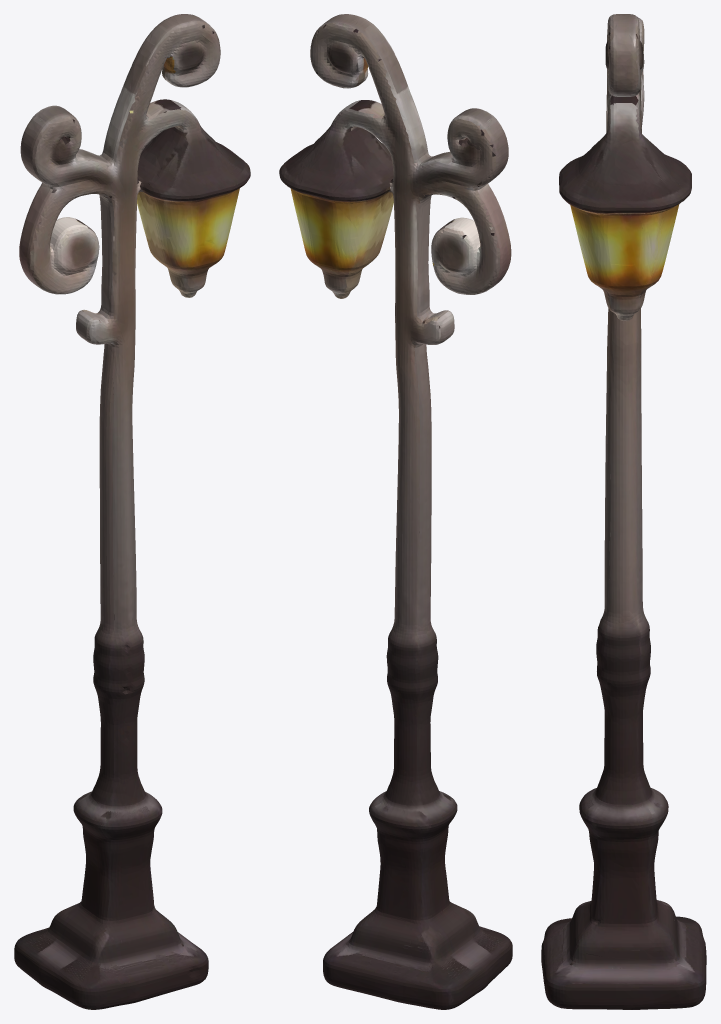
Rendered from fantasy_streetlamp.glb.
The picture shows the model from 3 angles, left to right: view 1: azimuth 30°, elevation 25°; view 2: azimuth 150°, elevation 25°; view 3: azimuth 270°, elevation 25°; orthographic projection. The views are drawn at different scales.
Visible parts, largest first — view 1: tmpr71o_7g1.ply; view 2: tmpr71o_7g1.ply; view 3: tmpr71o_7g1.ply.
Boxes of the visible parts, <box> form: tmpr71o_7g1.ply: <box>14,14,250,1009</box>; tmpr71o_7g1.ply: <box>279,14,512,1009</box>; tmpr71o_7g1.ply: <box>541,14,706,1009</box>.
Size of the model in its own units: 0.4739 by 1.99 by 0.2997.
1 material, 1 textured.
